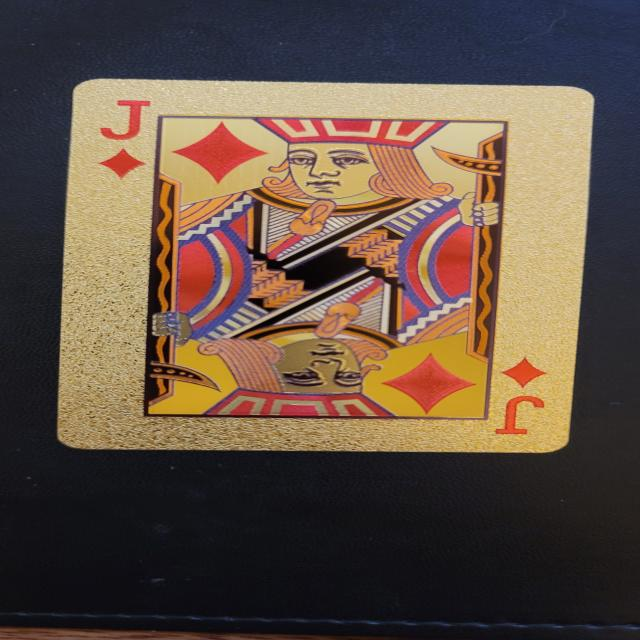Jack of diamonds: (51, 75, 598, 453)
